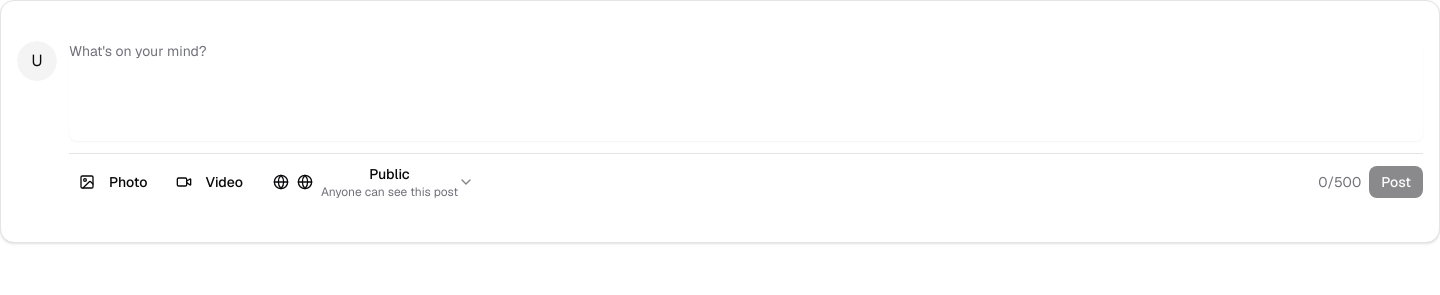
Test: PostComposer › detects hashtags and mentions
The width and height of the screenshot is (1440, 295).
In the text box with placeholder "What's on your mind?": {"x": 746, "y": 91} [69,41,1423,141], type "Hello #world @testuser!"
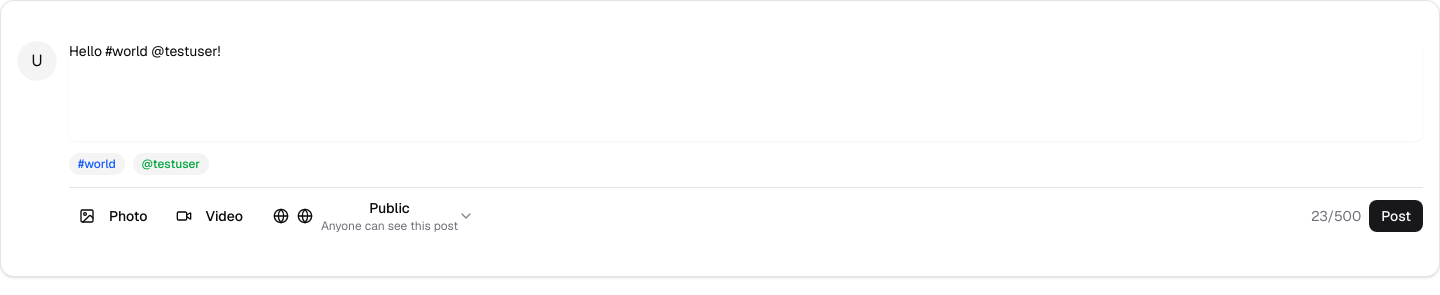
Now the text "#world" is shown, box [69,153,125,175]
Now the text "@testuser" is shown, box [133,153,209,175]
